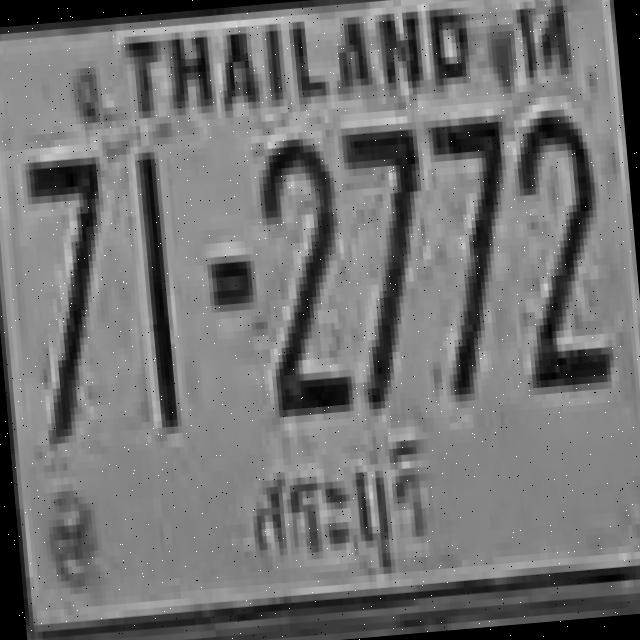1: (134, 148, 177, 424)
2: (506, 100, 608, 381), (251, 130, 349, 410)
7: (336, 115, 435, 402), (22, 150, 121, 437), (426, 108, 521, 395)
SaraBuri: (235, 437, 448, 603)
